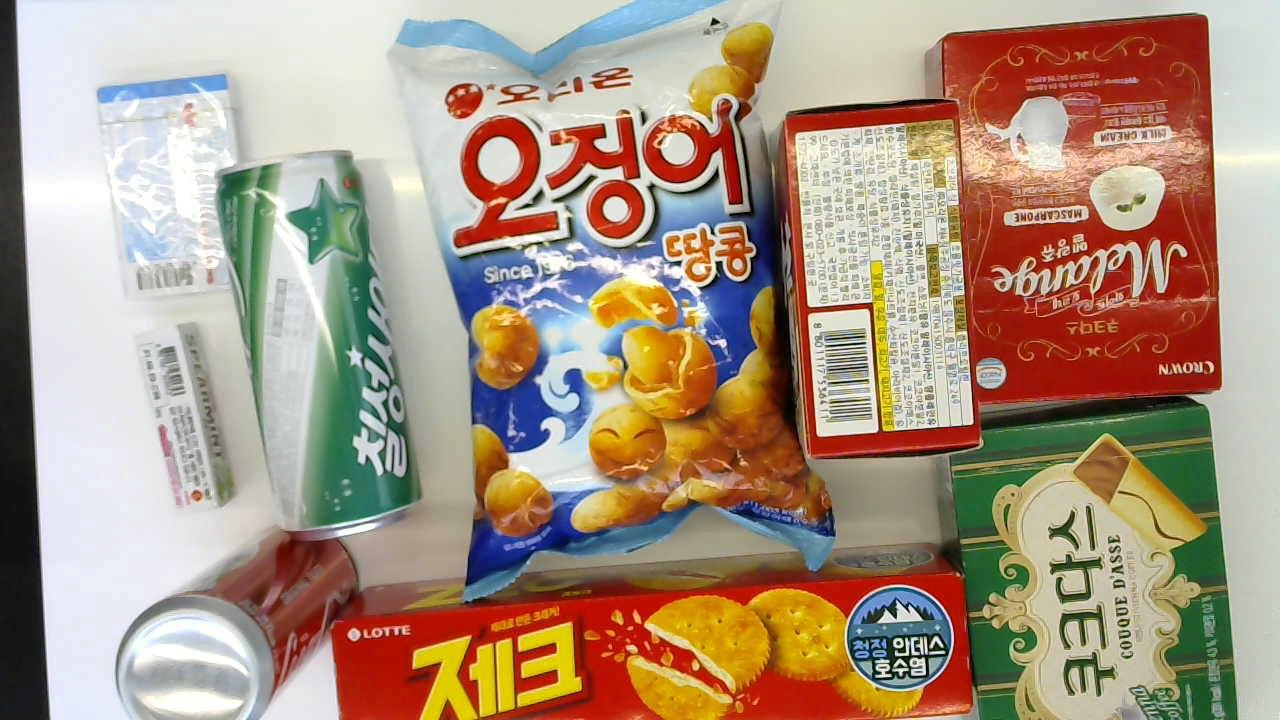ID_gum: (95, 70, 246, 300)
chocopie: (780, 99, 985, 460)
cidar: (215, 148, 416, 539)
coke: (114, 528, 358, 720)
couque_coffee: (930, 394, 1240, 718)
couque_white: (924, 10, 1220, 420)
spearmint: (129, 322, 233, 513)
squid_peanut: (385, 1, 837, 594)
zec: (332, 539, 967, 720)
